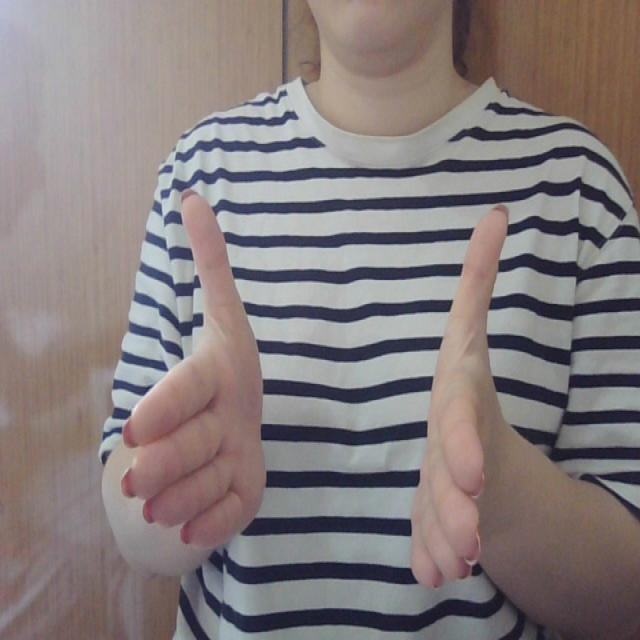Nasil: (117, 180, 510, 594)
